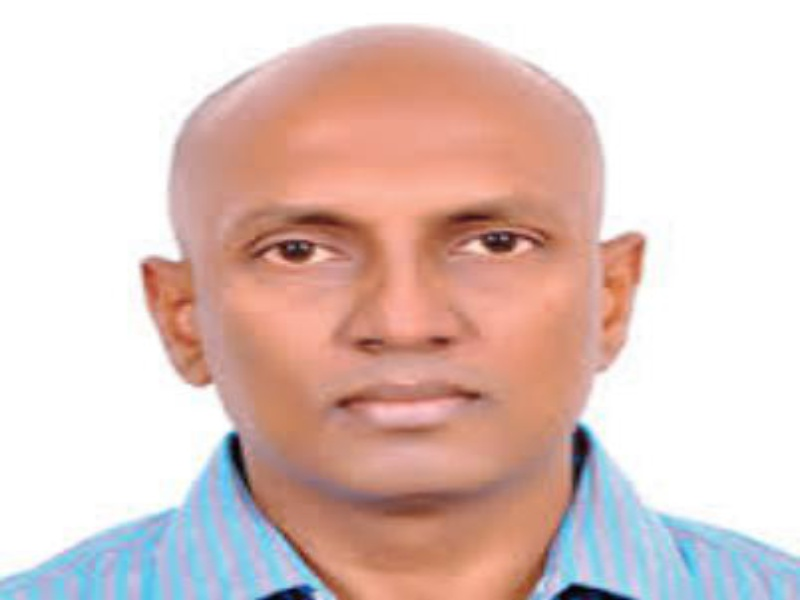TsisyArotava: (134, 19, 664, 546)
